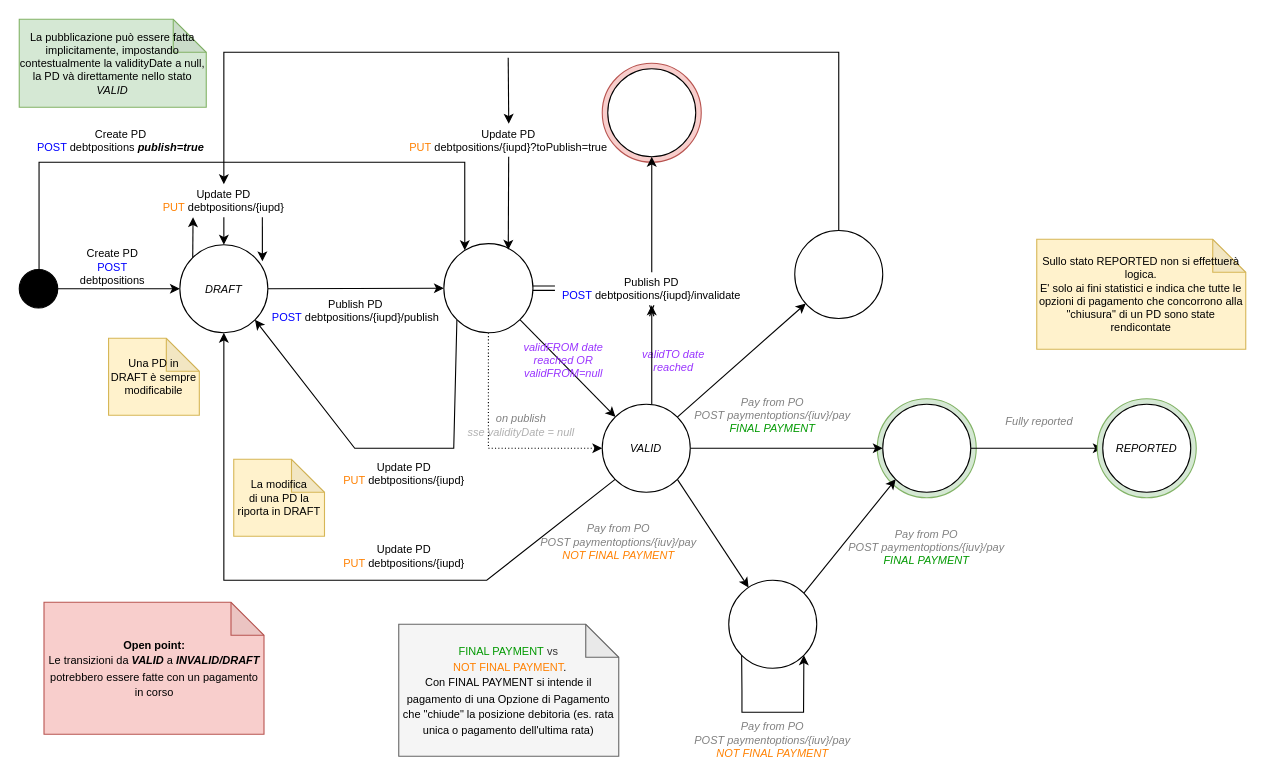
Some shapes in this 1265 by 779 pixel diagram are drawn without their labels. The centre of each missing label's shape, as x and y in pixels:
"EXPIRED" goes at point (838, 273).
"INVALID" goes at point (651, 112).
"PAID" goes at point (926, 447).
"PARTIALLY_ PAID" goes at point (772, 623).
"PUBLISHED" goes at point (488, 288).
